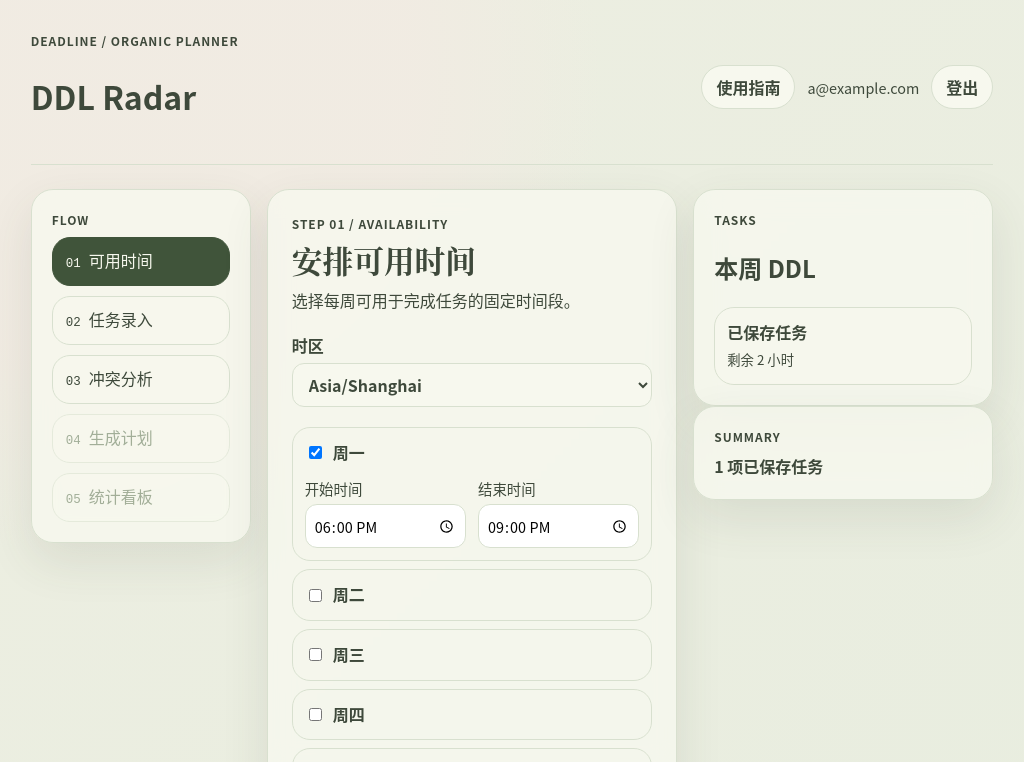
Test: input flow navigation › analyzes saved inputs and advances to a generated plan
Click the button "03冲突分析" at (141, 380), box [52,355,230,404]
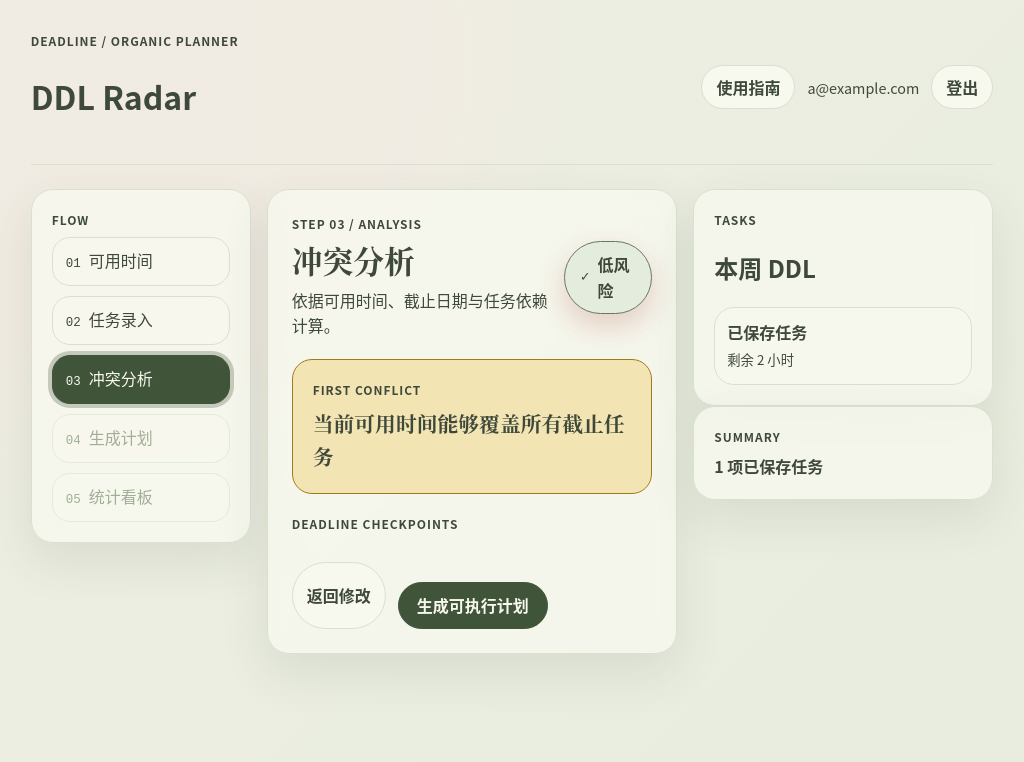
Click the button "生成可执行计划" at (473, 605), box [398,582,548,629]
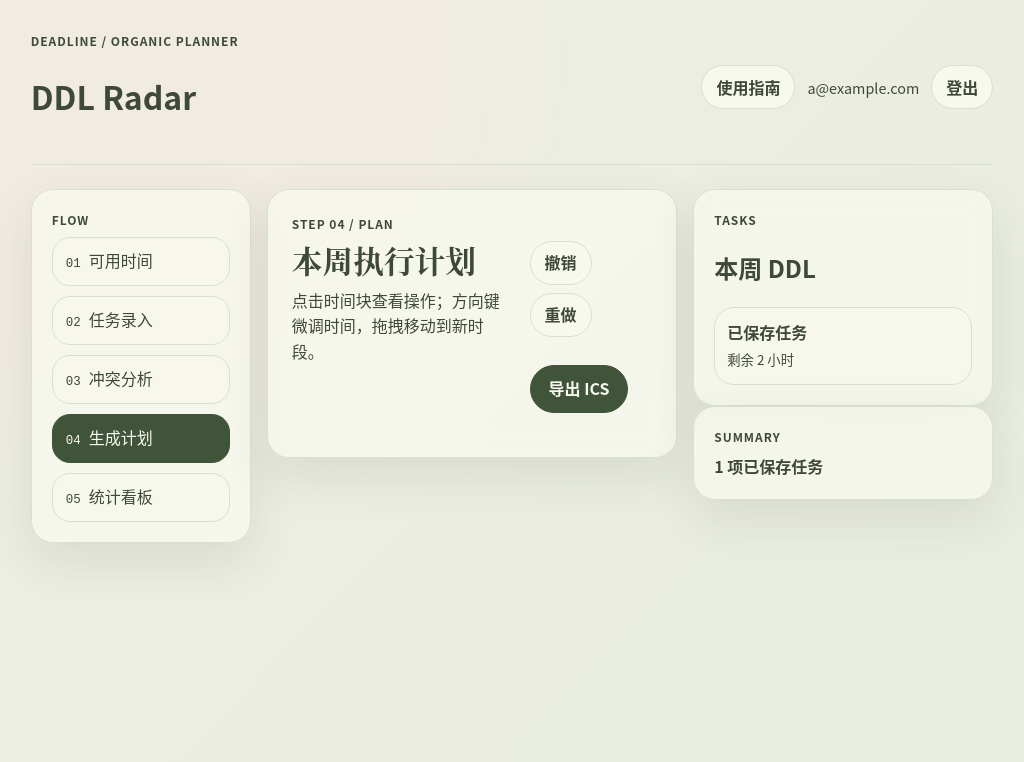
Now the heading "本周执行计划" is shown, box [292,238,476,282]
